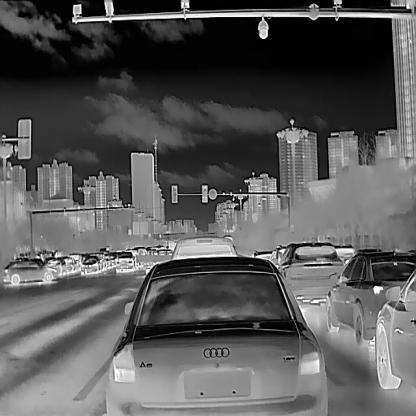car: (105, 256, 328, 415), (326, 248, 415, 347), (366, 270, 415, 388), (274, 240, 345, 295), (170, 234, 237, 259), (2, 256, 59, 284), (134, 246, 173, 272), (115, 250, 135, 271), (80, 255, 102, 274)
